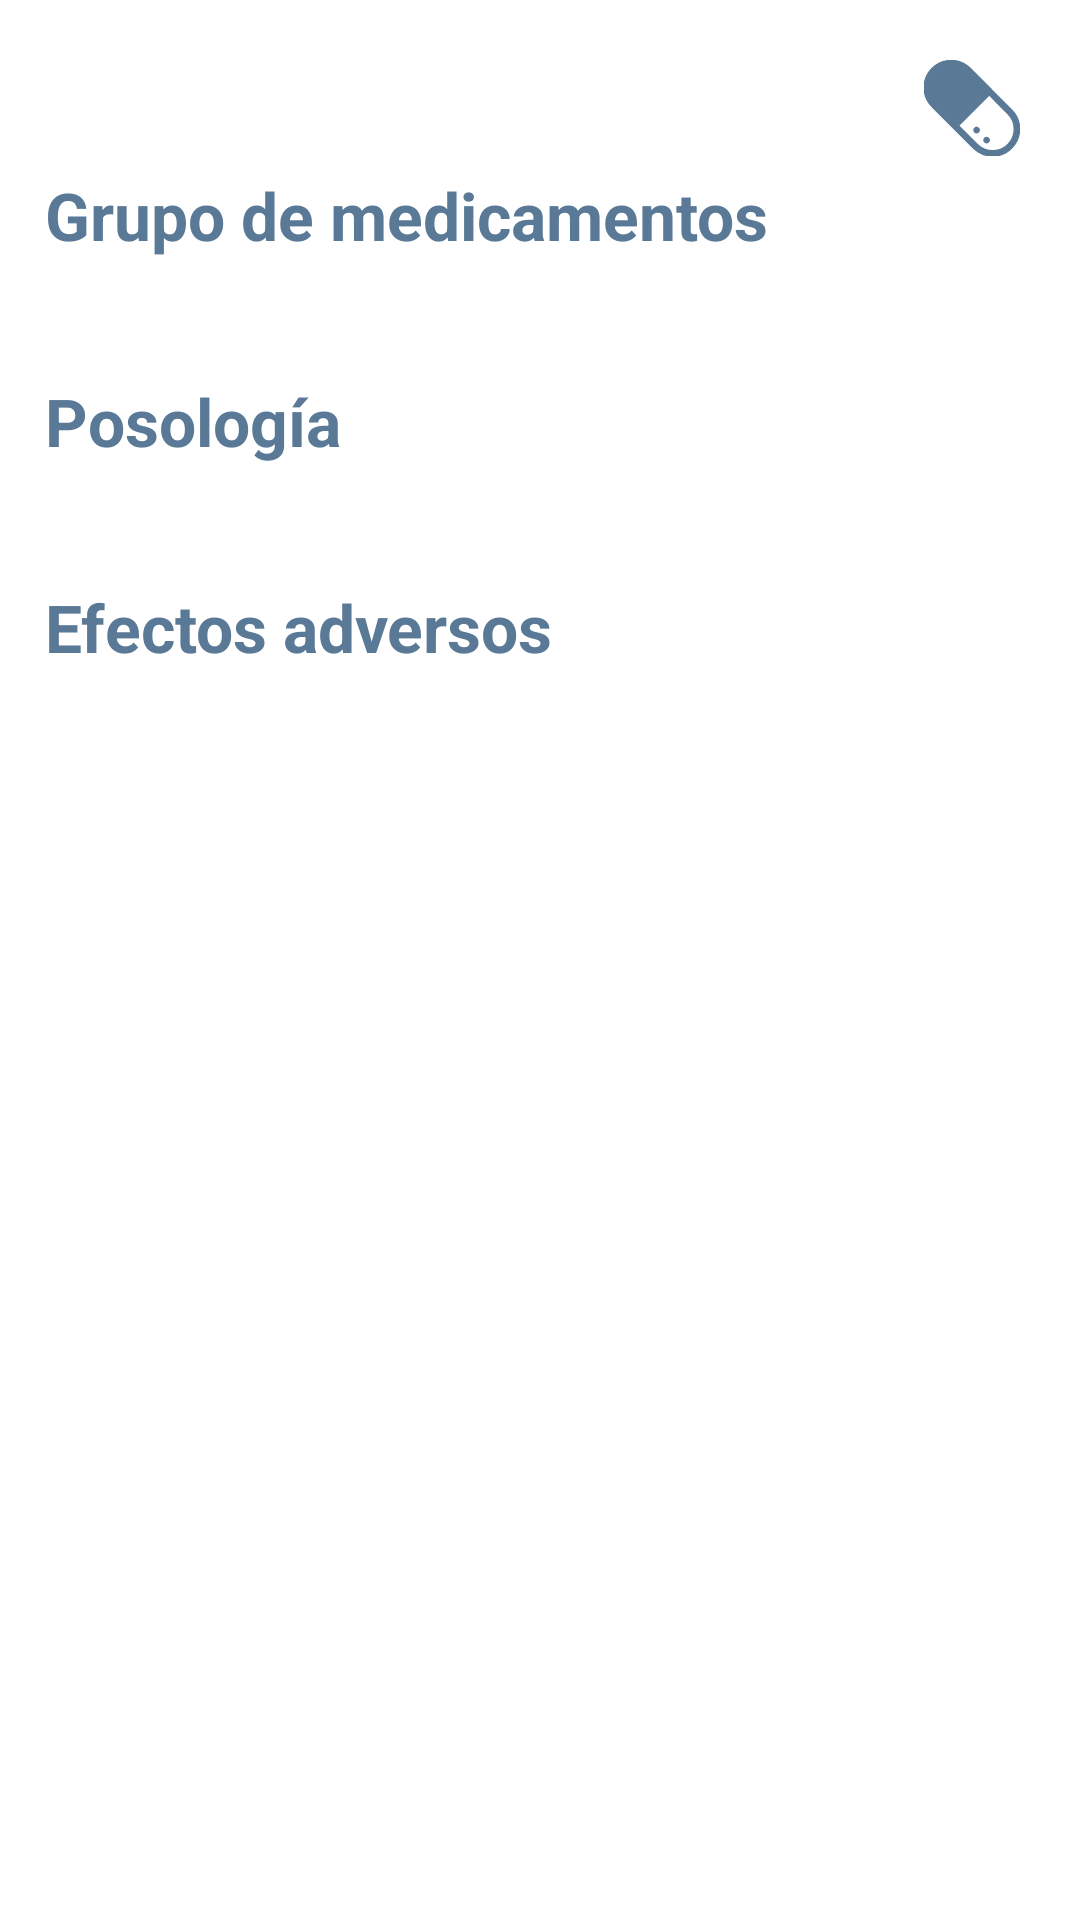

Icons on this 1080×1920 Android screen, each with its box as [x1=x1, y1=y1, x2=x2, y2=y2]:
medicine: [x1=924, y1=60, x2=1020, y2=156]
